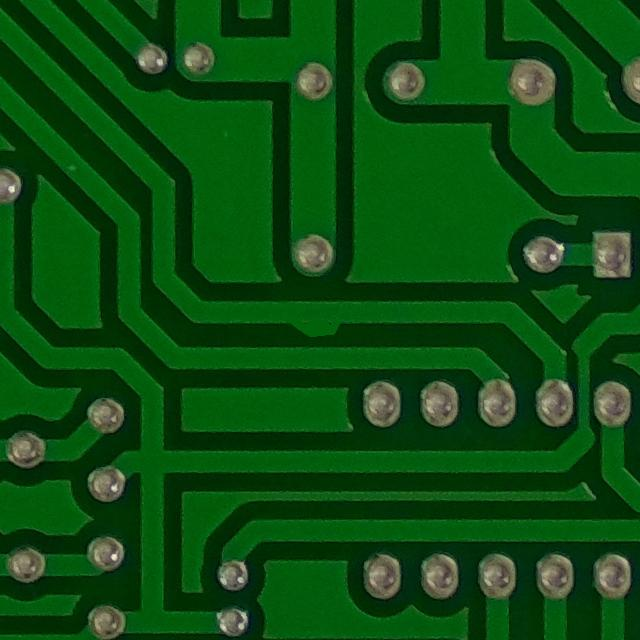spur: (281, 294, 359, 347)
